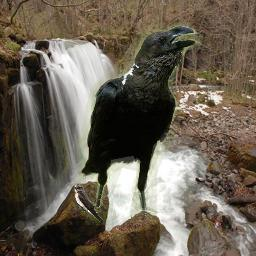Crow: (77, 21, 202, 225)
Swallow: (74, 183, 105, 223)
